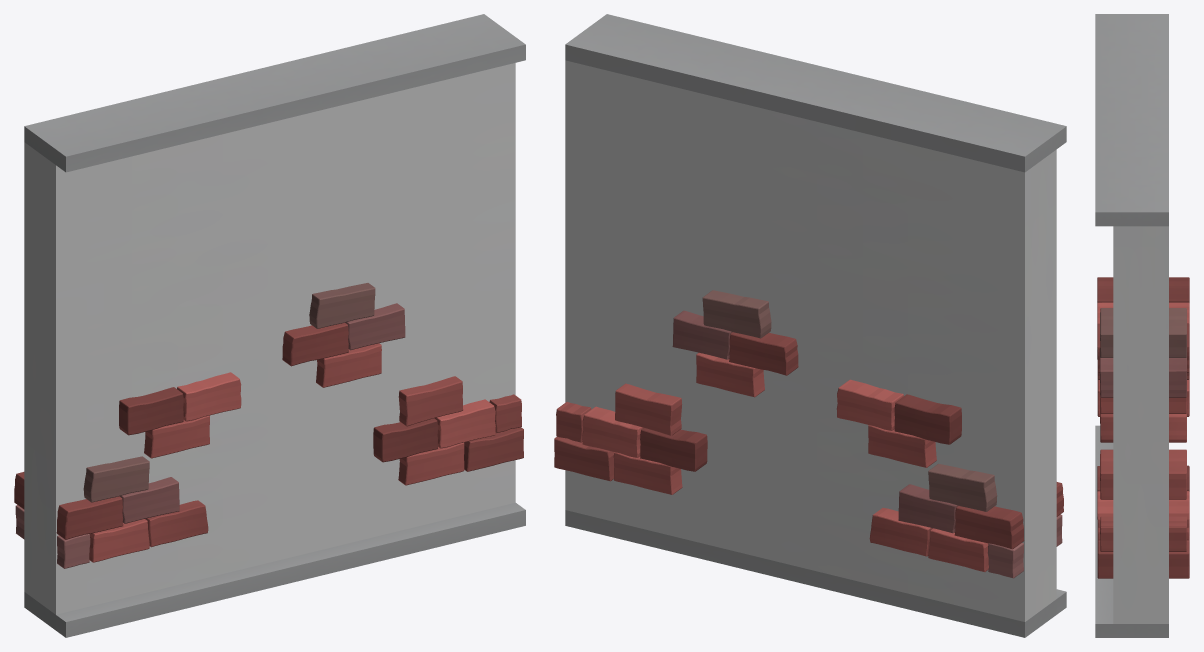
The model's file is wall_1_brick.glb.
The picture shows the model from 3 angles, left to right: view 1: azimuth 30°, elevation 25°; view 2: azimuth 150°, elevation 25°; view 3: azimuth 270°, elevation 25°; orthographic projection. The views are drawn at different scales.
Parts seen in each view (by area): view 1: wall_1_brick, brick11, brick7, brick19, brick13, brick3, brick5, brick2, brick17, brick15, brick4, brick8 (+8 smaller); view 2: wall_1_brick, brick11, brick7, brick19, brick3, brick13, brick5, brick2, brick17, brick15, brick4, brick6 (+8 smaller); view 3: wall_1_brick, brick19, brick3, brick1, brick18, brick14, brick7, brick8, brick15, brick4, brick5, brick2 (+2 smaller).
Part boxes in pixels (<box>): wall_1_brick: <box>24,14,525,637</box>; brick11: <box>14,472,123,539</box>; brick7: <box>119,387,183,435</box>; brick19: <box>398,376,463,426</box>; brick13: <box>83,456,149,502</box>; brick3: <box>309,283,375,328</box>; brick5: <box>177,372,241,421</box>; brick2: <box>282,322,348,366</box>; brick17: <box>373,418,437,462</box>; brick15: <box>434,399,495,448</box>; brick4: <box>316,343,381,387</box>; brick8: <box>145,500,208,547</box>; wall_1_brick: <box>565,14,1066,637</box>; brick11: <box>954,482,1063,549</box>; brick7: <box>894,394,961,444</box>; brick19: <box>615,383,682,435</box>; brick3: <box>702,290,771,338</box>; brick13: <box>928,463,997,511</box>; brick5: <box>836,379,903,430</box>; brick2: <box>729,332,798,375</box>; brick17: <box>640,428,707,471</box>; brick15: <box>582,406,643,457</box>; brick4: <box>696,352,764,397</box>; brick6: <box>868,425,936,467</box>; wall_1_brick: <box>1095,14,1168,637</box>; brick19: <box>1100,449,1186,499</box>; brick3: <box>1100,308,1186,357</box>; brick1: <box>1099,348,1186,397</box>; brick18: <box>1100,516,1186,551</box>; brick14: <box>1097,539,1189,578</box>; brick7: <box>1097,277,1189,302</box>; brick8: <box>1100,398,1186,442</box>; brick15: <box>1097,491,1189,540</box>; brick4: <box>1100,383,1186,413</box>; brick5: <box>1097,302,1189,323</box>; brick2: <box>1097,323,1189,372</box>.
Size of the model in its own units: 2 by 2 by 0.4014.
1 material, 1 textured.
